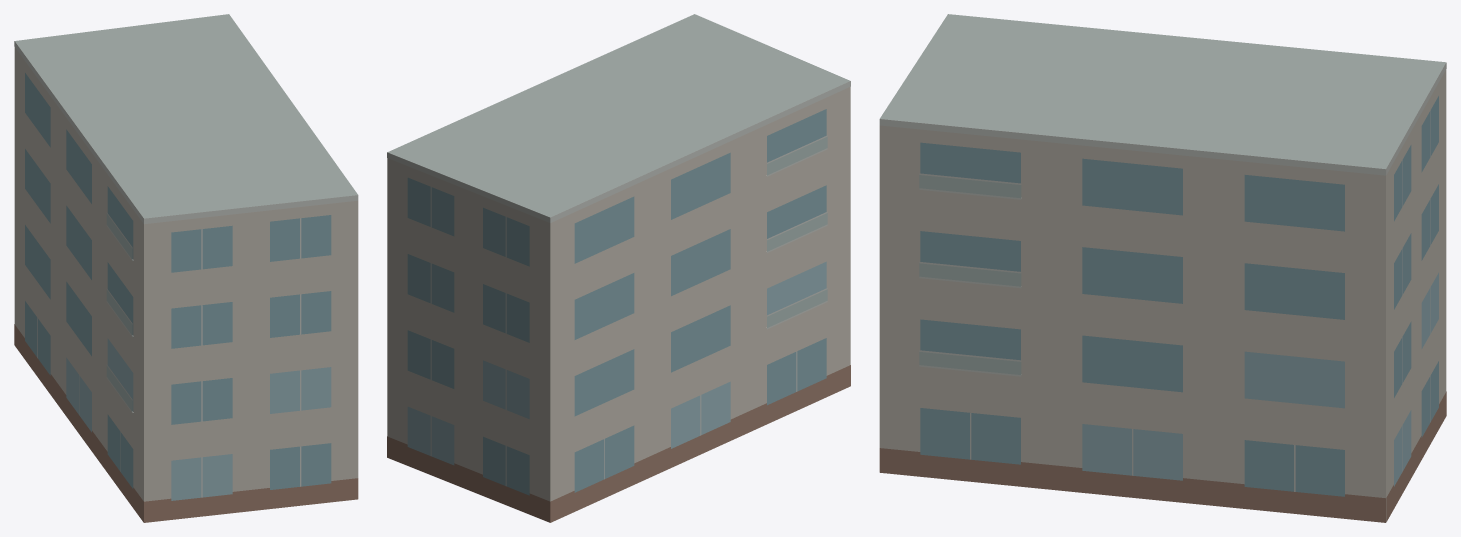
File: survey-upis-32767123.glb
3 views of the same model, side by side, from view 1: azimuth 30°, elevation 25°; view 2: azimuth 150°, elevation 25°; view 3: azimuth 270°, elevation 25° (orthographic). The views are drawn at different scales.
Parts seen in each view (by area): view 1: survey-upis-32767123.tmp; view 2: survey-upis-32767123.tmp; view 3: survey-upis-32767123.tmp.
Boxes of the visible parts, <box> form: survey-upis-32767123.tmp: <box>14,14,358,522</box>; survey-upis-32767123.tmp: <box>387,14,850,522</box>; survey-upis-32767123.tmp: <box>879,14,1446,522</box>.
Bounding box in the file's own units: 12.52 × 13.3 × 19.33.
